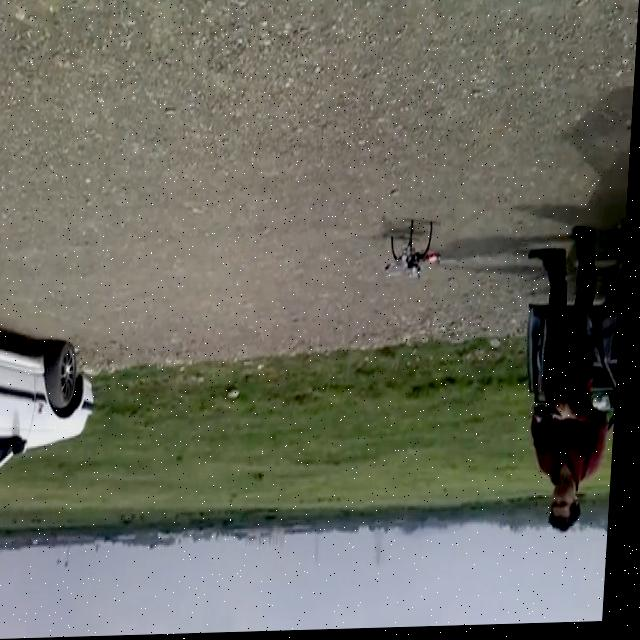drone: (386, 222, 449, 286)
